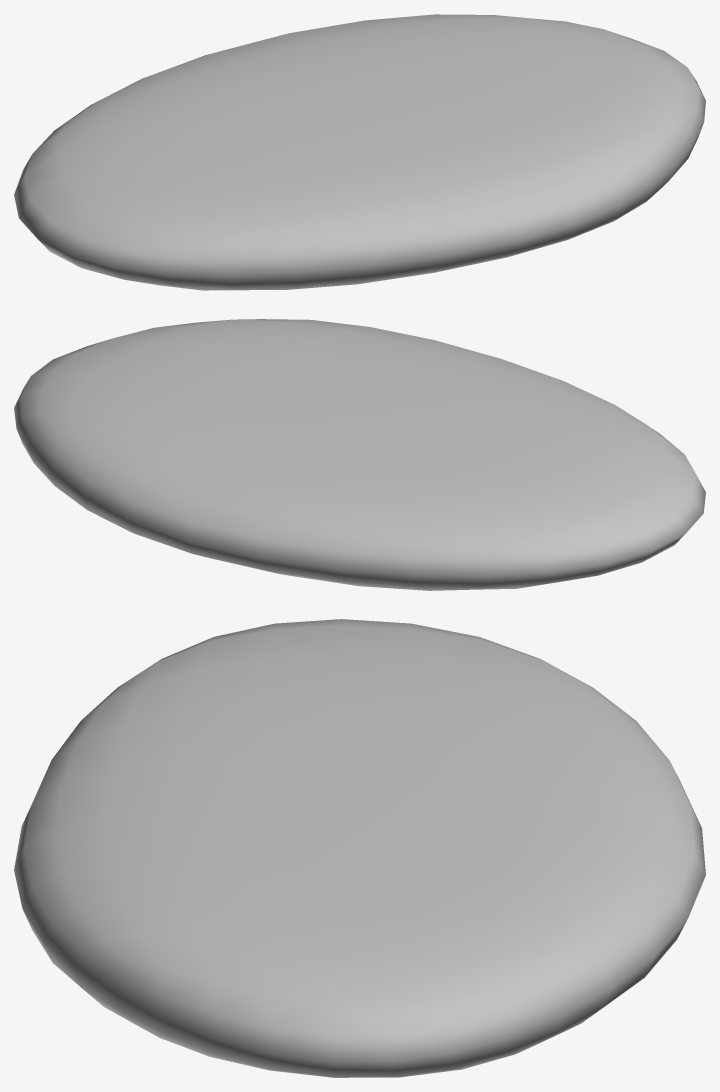
Rendered from Town_7_Stone_2.glb.
3 renders of one model, top to bottom at view 1: azimuth 30°, elevation 25°; view 2: azimuth 150°, elevation 25°; view 3: azimuth 270°, elevation 25°, orthographic. The views are drawn at different scales.
Visible parts, largest first — view 1: Town_7_Stone_2; view 2: Town_7_Stone_2; view 3: Town_7_Stone_2.
Boxes of the visible parts, left/top/right/bottom form: Town_7_Stone_2: left=14, top=14, right=705, bottom=290; Town_7_Stone_2: left=14, top=319, right=705, bottom=590; Town_7_Stone_2: left=14, top=619, right=705, bottom=1077.
Size of the model in its own units: 1.03 by 0.1276 by 0.7047.
Materials: 1 (1 with a texture image).
